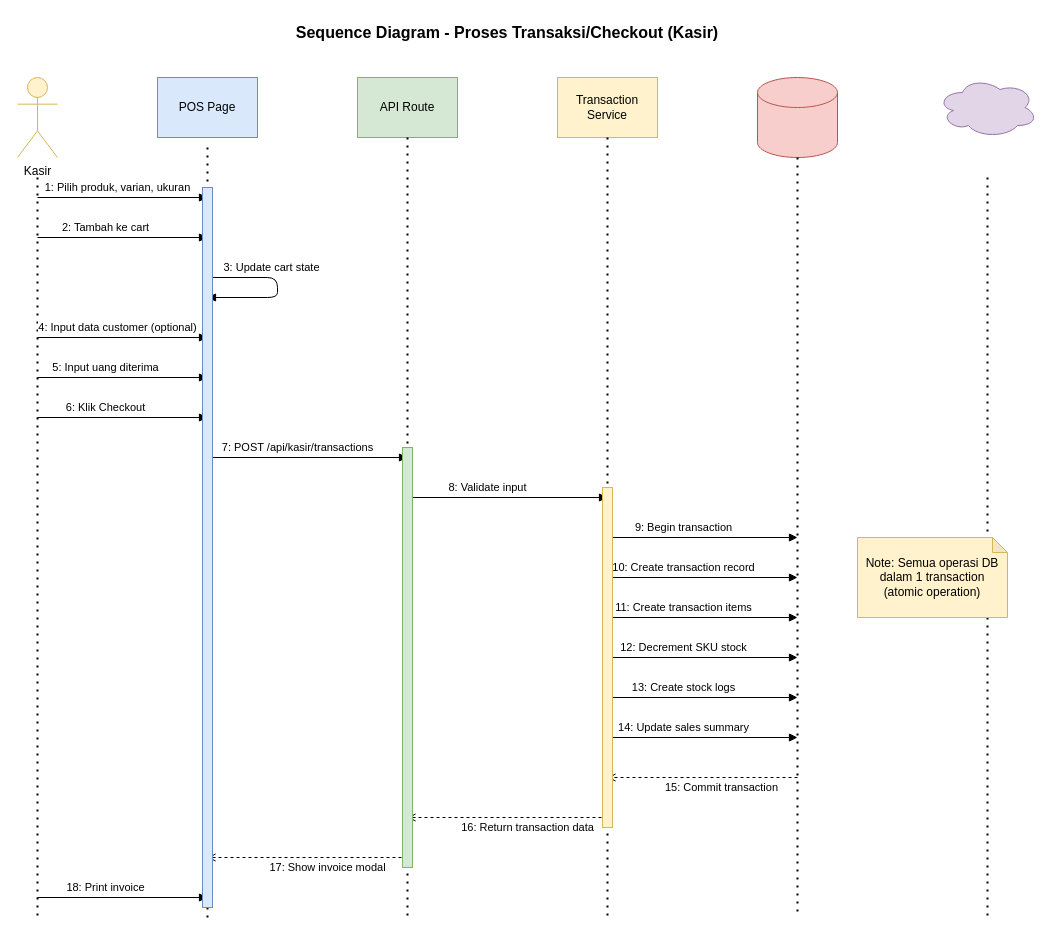
The diagram is 1055 pixels wide and 936 high, and some of its shapes have lost their labels. The box of each missing label's shape, as (x1, y1, x2, y2) in pixels:
AWS S3: (936, 76, 1038, 138)
Database: (756, 76, 838, 158)
